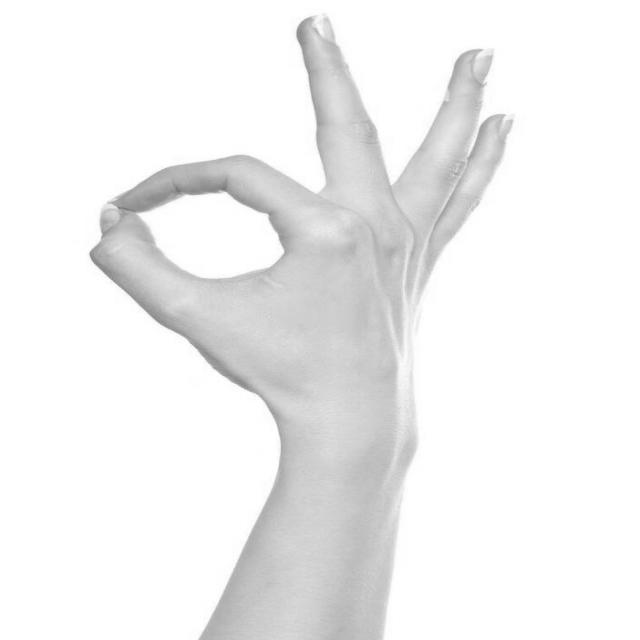perfect: (74, 2, 524, 464)
